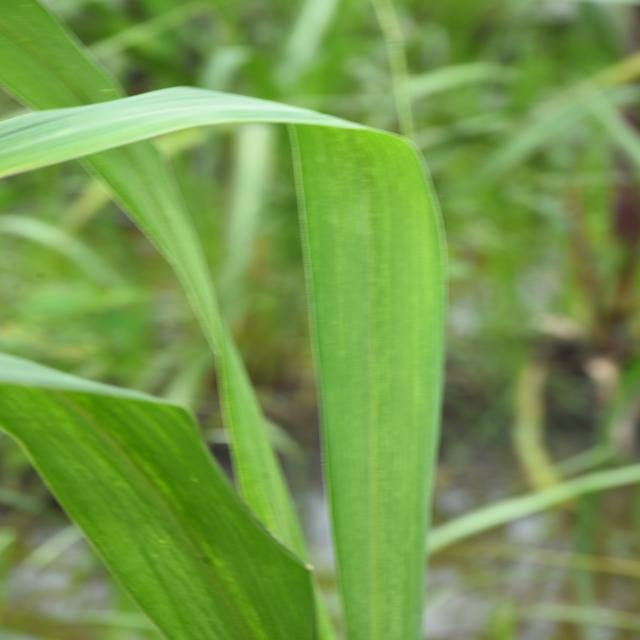Sugarcane: (2, 83, 448, 640)
